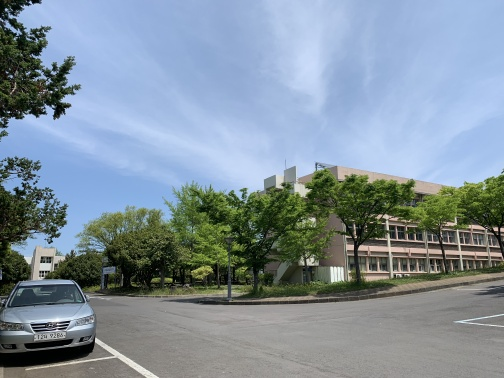College Of Education: (246, 159, 500, 300)
